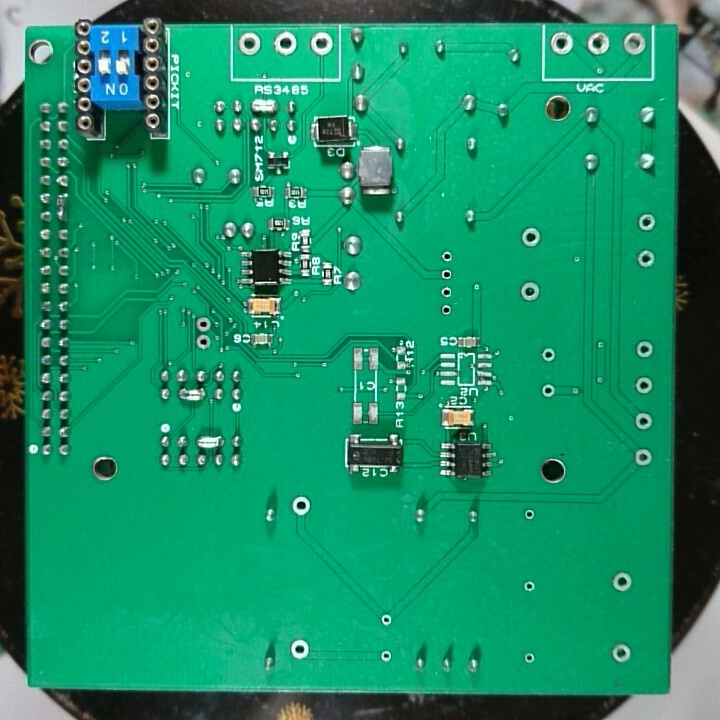F: (271, 30, 301, 58), (548, 30, 577, 58), (619, 29, 647, 58), (585, 29, 612, 58), (308, 29, 333, 59), (236, 30, 263, 56), (609, 568, 634, 594), (634, 210, 659, 235), (610, 641, 634, 667), (519, 225, 543, 250), (289, 495, 314, 519), (632, 409, 655, 435), (519, 278, 542, 303), (632, 444, 655, 469), (634, 246, 657, 271), (288, 637, 311, 661), (631, 338, 656, 360), (631, 375, 655, 396), (540, 344, 559, 365), (195, 332, 213, 352), (522, 504, 539, 525), (194, 314, 212, 333), (540, 382, 557, 401), (522, 577, 539, 595), (438, 266, 455, 283), (439, 283, 456, 300), (379, 611, 395, 629), (522, 650, 537, 669), (378, 648, 394, 664), (439, 249, 455, 265), (439, 301, 454, 318)
P: (246, 96, 281, 117), (176, 383, 205, 403), (53, 192, 71, 223), (195, 433, 224, 451)
